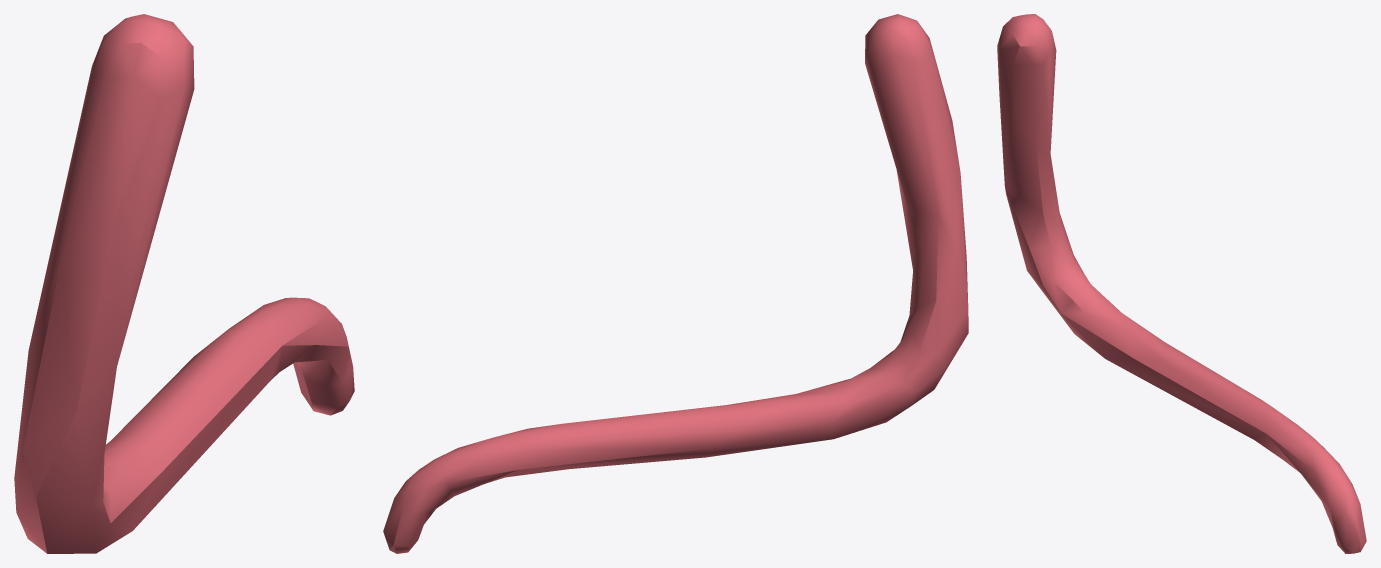
Rendered from fma49492_fj5163.glb.
3 renders of one model, left to right at view 1: azimuth 30°, elevation 25°; view 2: azimuth 150°, elevation 25°; view 3: azimuth 270°, elevation 25°, orthographic. The views are drawn at different scales.
Parts seen in each view (by area): view 1: FMA49492_FJ5163; view 2: FMA49492_FJ5163; view 3: FMA49492_FJ5163.
Boxes of the visible parts, x1,y1,x2,y2 form: FMA49492_FJ5163: [14, 14, 354, 553]; FMA49492_FJ5163: [383, 14, 968, 553]; FMA49492_FJ5163: [997, 14, 1366, 553].
Size of the model in its own units: 0.0064 by 0.00725 by 0.00596.
